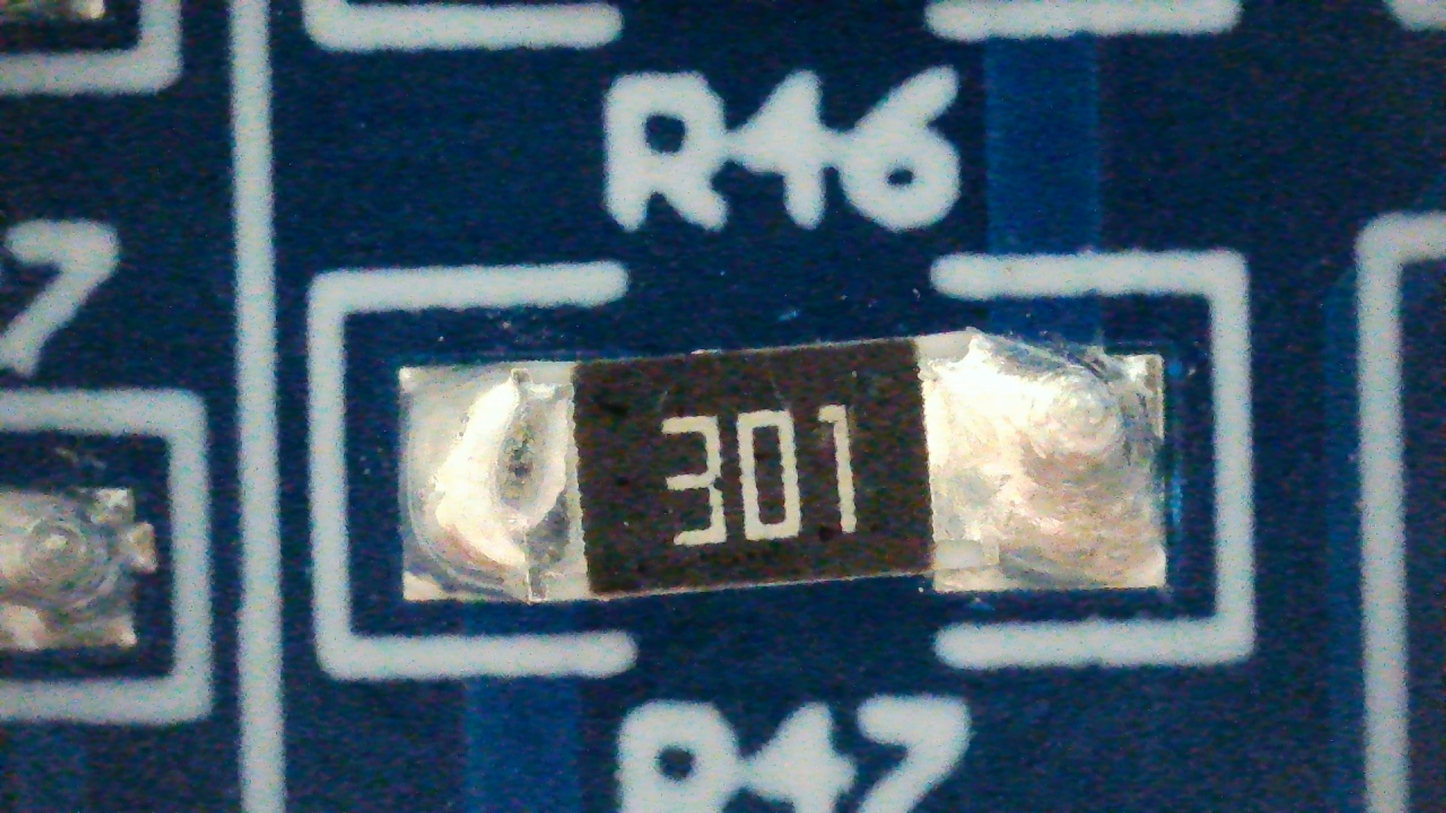NG: (399, 331, 1168, 601)
